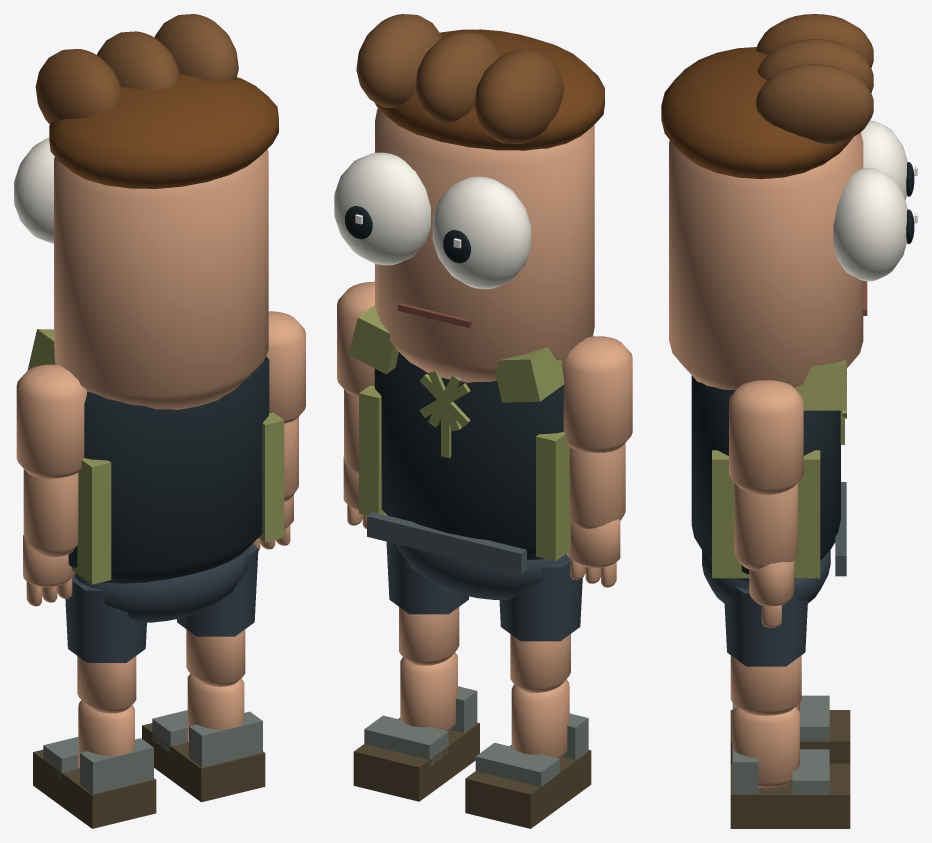
File: spectator_0.glb
The picture shows the model from 3 angles, left to right: view 1: azimuth 30°, elevation 25°; view 2: azimuth 150°, elevation 25°; view 3: azimuth 270°, elevation 25°; orthographic projection. The views are drawn at different scales.
Parts seen in each view (by area): view 1: Head, RallySpectator, LeftShin, RightShin, LeftLeg, LeftArm, LeftForearm, RightLeg, RightArm, RightForearm; view 2: Head, RallySpectator, LeftShin, RightShin, LeftLeg, LeftArm, LeftForearm, RightLeg, RightArm, RightForearm; view 3: Head, RallySpectator, RightShin, RightLeg, RightArm, RightForearm, LeftShin.
Part boxes in pixels (<box>): Head: <box>14,14,278,409</box>; RallySpectator: <box>27,329,284,622</box>; LeftShin: <box>33,700,156,828</box>; RightShin: <box>142,673,265,802</box>; LeftLeg: <box>65,576,146,713</box>; LeftArm: <box>16,364,87,478</box>; LeftForearm: <box>23,469,78,606</box>; RightLeg: <box>176,544,258,686</box>; RightArm: <box>266,311,305,423</box>; RightForearm: <box>252,417,298,550</box>; Head: <box>334,14,604,382</box>; RallySpectator: <box>348,305,570,600</box>; LeftShin: <box>465,679,591,828</box>; RightShin: <box>353,652,479,801</box>; LeftLeg: <box>499,558,582,692</box>; LeftArm: <box>562,336,632,452</box>; LeftForearm: <box>566,443,625,587</box>; RightLeg: <box>386,541,468,665</box>; RightArm: <box>337,281,374,396</box>; RightForearm: <box>343,389,387,528</box>; Head: <box>661,14,917,390</box>; RallySpectator: <box>691,359,846,603</box>; RightShin: <box>730,706,850,828</box>; RightLeg: <box>724,586,807,715</box>; RightArm: <box>729,380,803,494</box>; RightForearm: <box>734,483,797,627</box>; LeftShin: <box>730,695,850,763</box>.
Bounding box in the file's own units: 0.87 × 2.21 × 0.6864.
